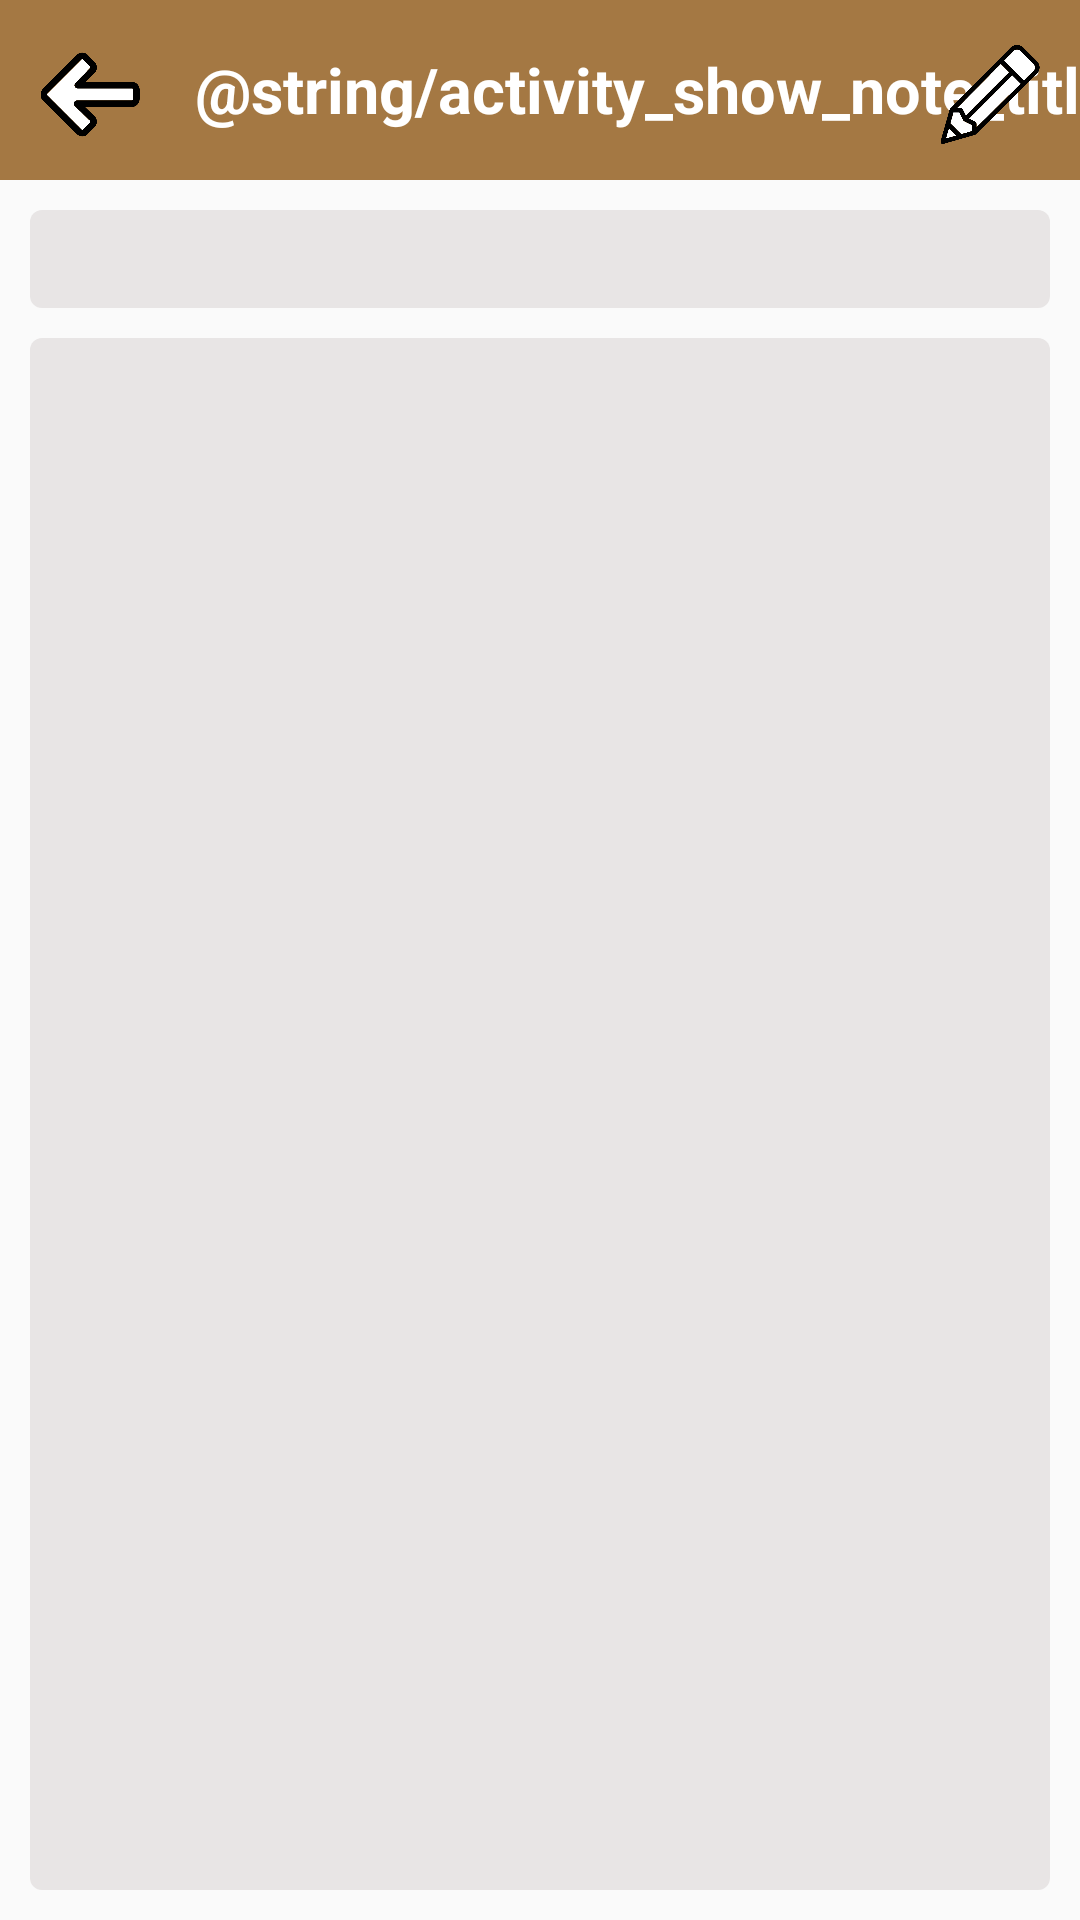

Icons on this 1080px x 1920px Android screen, each with the point to tap as point (x, y):
back: point (90, 94)
edit note: point (998, 94)
